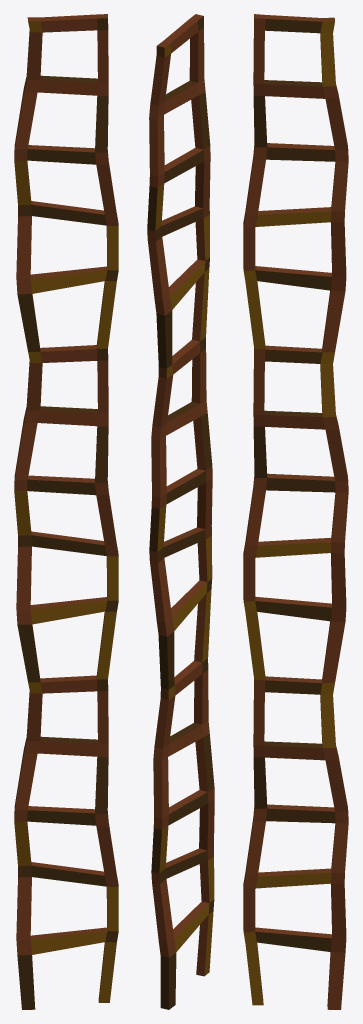
The model's file is LESTNIKI big.fbx.
The picture shows the model from 3 angles, left to right: view 1: azimuth 90°, elevation 25°; view 2: azimuth 150°, elevation 25°; view 3: azimuth 270°, elevation 25°; orthographic projection. The views are drawn at different scales.
Parts seen in each view (by area): view 1: Cube.005; view 2: Cube.005; view 3: Cube.005.
Boxes of the visible parts, x1,y1,x2,y2 form: Cube.005: (14,14,118,1009); Cube.005: (147,14,214,1009); Cube.005: (243,14,348,1009).
Bounding box in the file's own units: 22.05 × 803 × 77.05.
